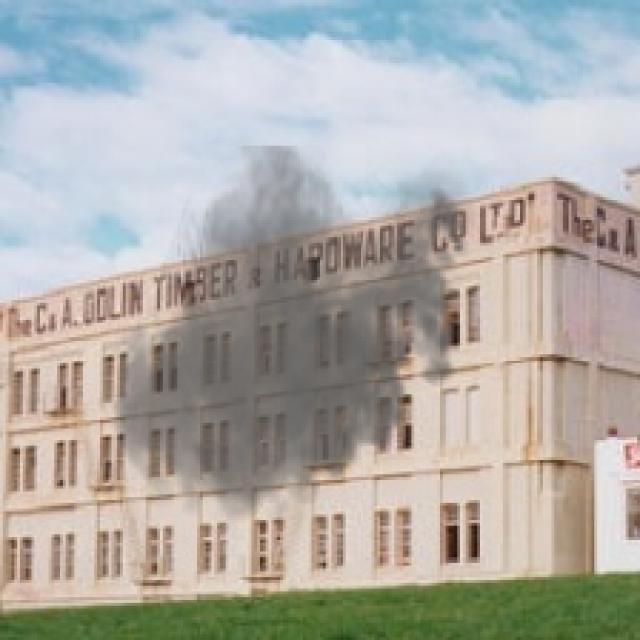smoke: (106, 146, 480, 537)
